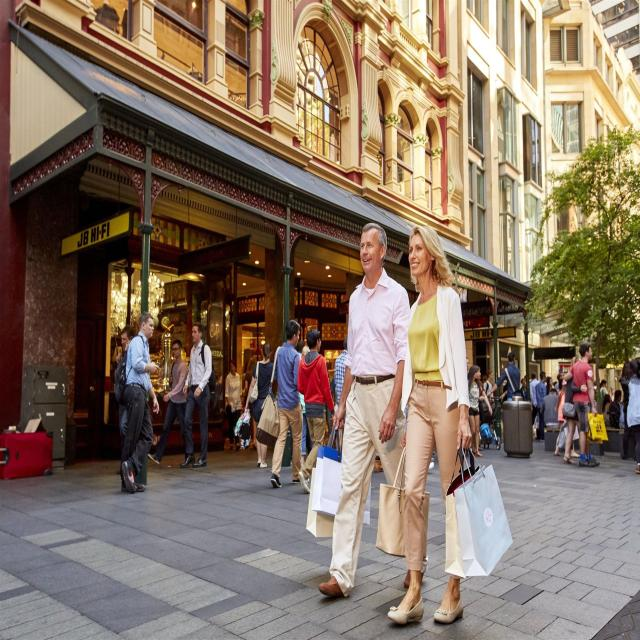body: (305, 220, 429, 600), (383, 222, 475, 628), (113, 311, 160, 495), (254, 319, 304, 488), (296, 327, 336, 496), (294, 338, 336, 485), (564, 342, 609, 468), (176, 320, 213, 470), (148, 337, 189, 465), (233, 342, 274, 469), (560, 355, 593, 466), (114, 325, 135, 455), (554, 378, 580, 458), (224, 358, 244, 451), (625, 358, 640, 474), (486, 352, 520, 402), (467, 364, 485, 458), (474, 364, 493, 450), (334, 336, 348, 438), (523, 371, 565, 398), (618, 360, 634, 430), (244, 356, 258, 417), (535, 372, 547, 442), (540, 388, 560, 429), (529, 372, 540, 426), (609, 390, 622, 430), (482, 370, 496, 404), (600, 393, 612, 426), (599, 379, 612, 406), (518, 377, 528, 401), (546, 376, 553, 396), (608, 386, 615, 402), (466, 356, 470, 376), (480, 374, 488, 384)
